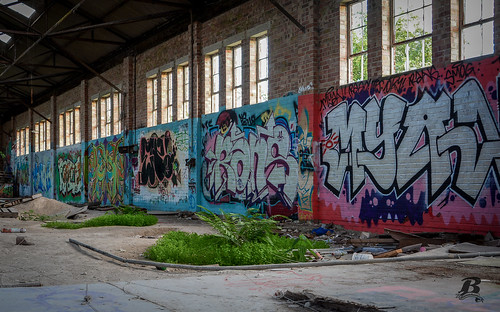graffiti: (315, 62, 500, 237), (198, 87, 308, 219), (132, 117, 201, 210), (82, 133, 132, 206), (30, 142, 87, 198)
window: (339, 1, 491, 86), (200, 15, 277, 113), (136, 52, 200, 124), (86, 80, 126, 141), (54, 98, 88, 149), (32, 115, 55, 152), (11, 124, 37, 154)
